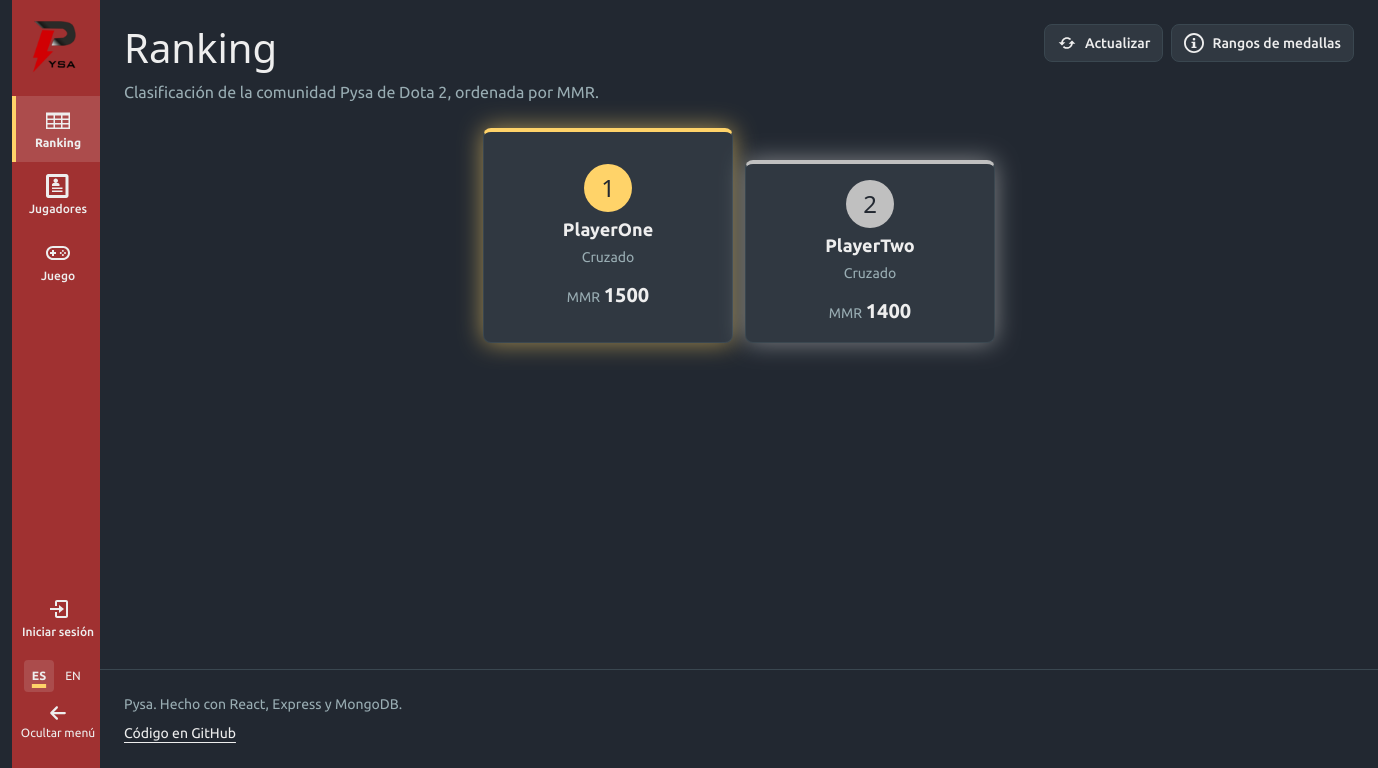
Test: hiding the menu › blocked storage keeps the menu visible and toggling does not crash
Check: the text "PlayerOne" is shown, box [563, 216, 653, 243]
Check: the button "Mostrar menú" is not shown
Click the button "Ocultar menú".
click(56, 722)  # box [12, 692, 100, 752]
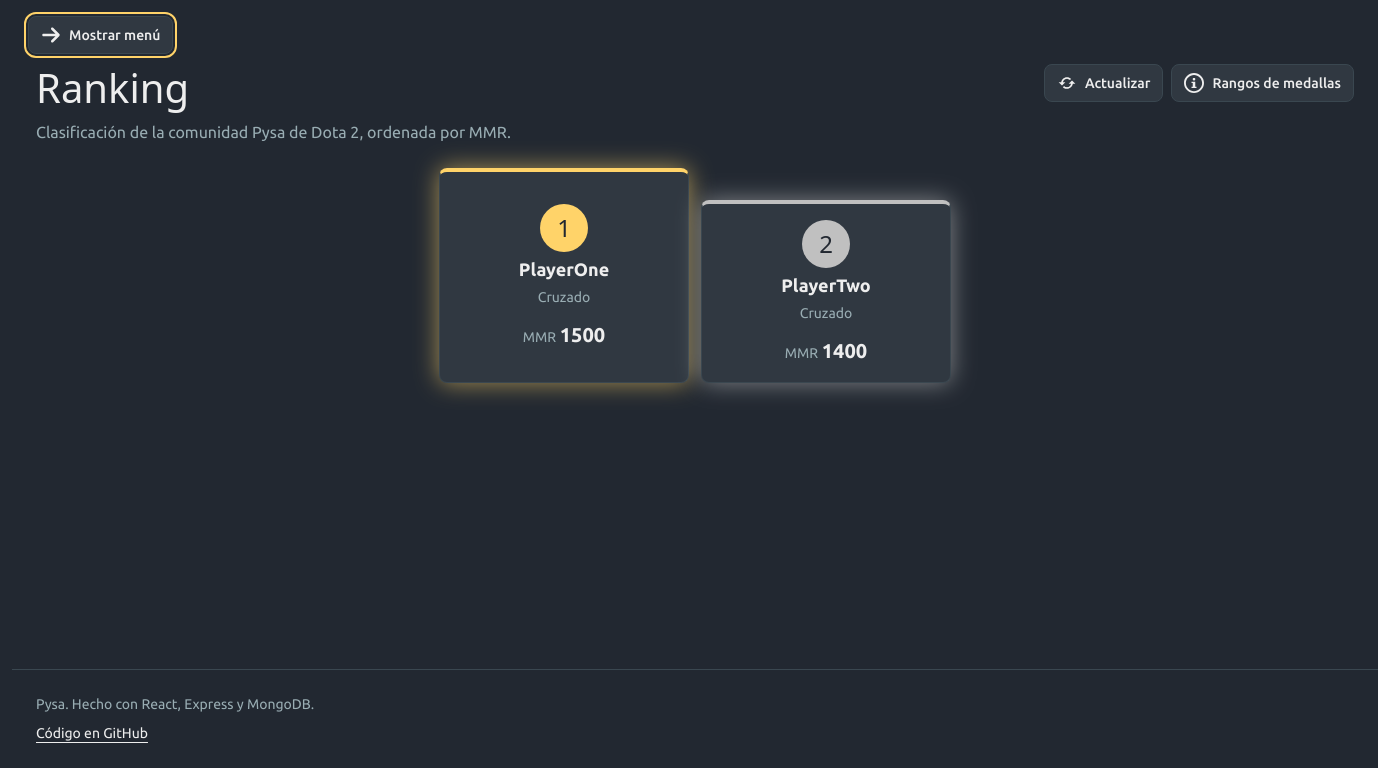
Check: the button "Mostrar menú" is shown, box [28, 16, 174, 54]
